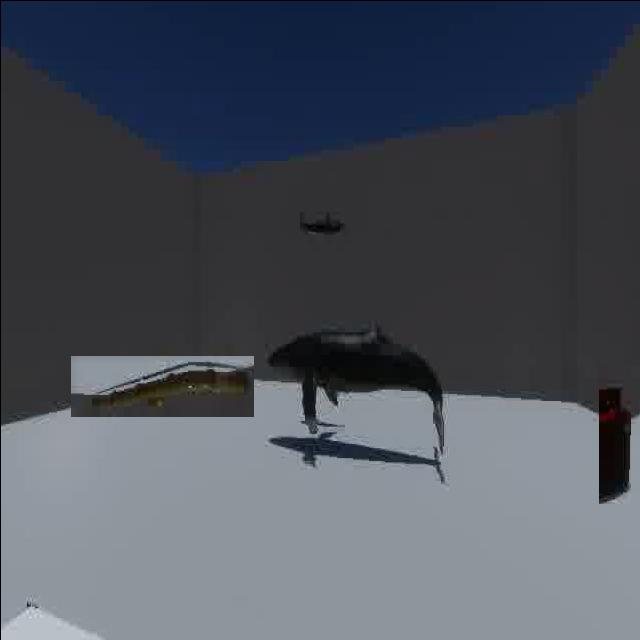Cylinder: (598, 364, 640, 510)
Pipe: (69, 354, 253, 416)
Whale: (263, 307, 468, 461), (290, 206, 352, 244)
